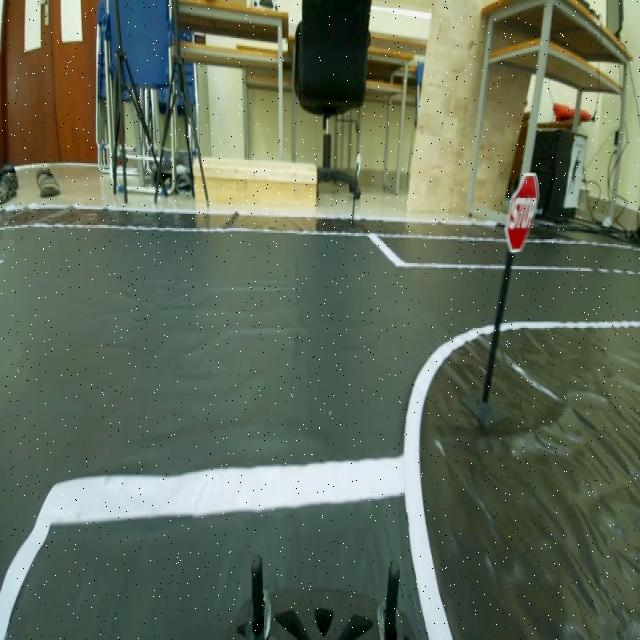stop: (503, 169, 540, 262)
